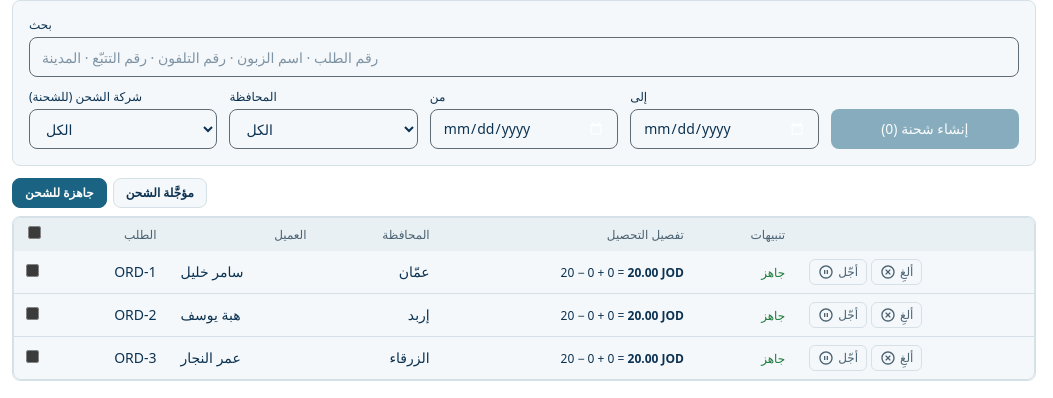
it: ticking every row › and only the row the search left when one is
Expected: the text "سامر خليل" is shown, [180,262,244,281]
Type a name that matches exactly one of the three.
Type "هبة" into the search field with placeholder "رقم الطلب" at (524, 57), box [29,37,1019,77]
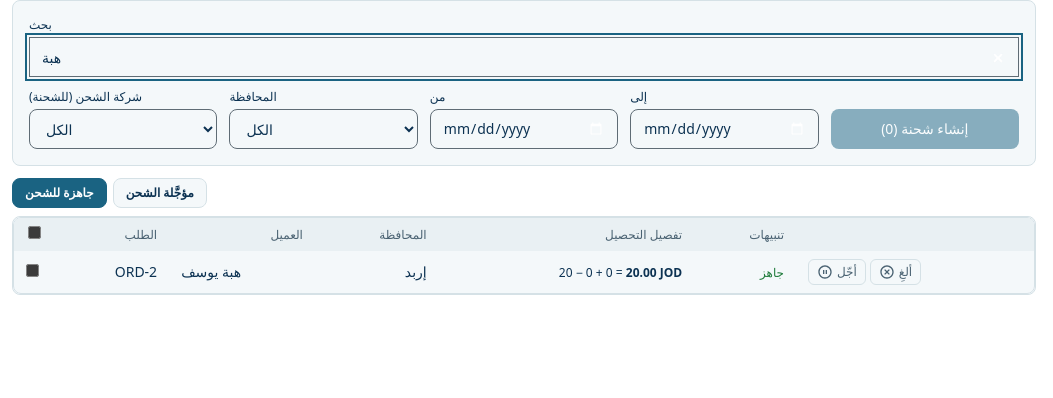
Expected: the text "سامر خليل" is not shown
Click the checkbox named "اختر الكل" at (34, 232), box [28,226,40,239]
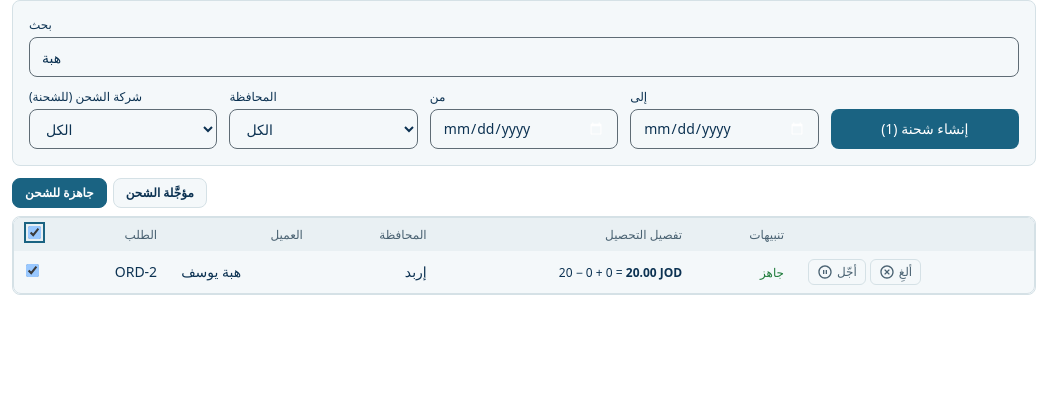
Expected: the button "إنشاء شحنة (1)" is shown, [831,109,1019,149]
